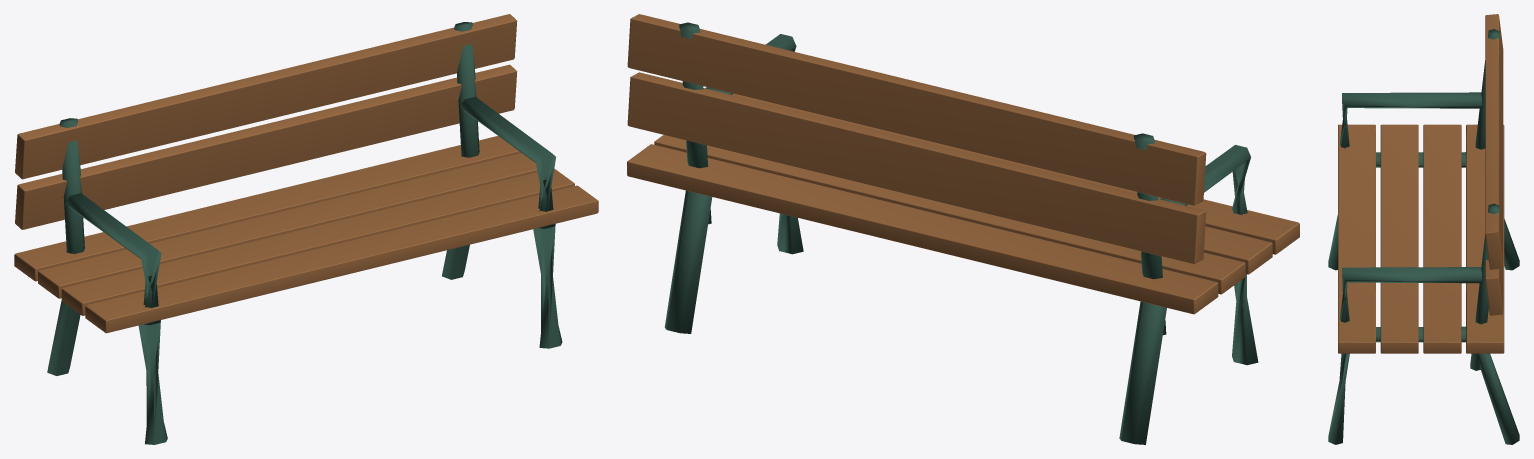
File: S052_park_bench_rebuilt.glb
3 renders of one model, left to right at view 1: azimuth 30°, elevation 25°; view 2: azimuth 150°, elevation 25°; view 3: azimuth 270°, elevation 25°, orthographic. The views are drawn at different scales.
Visible parts, largest first — view 1: Oiled_warm_oak.001, Deep_green_outdoor_paint; view 2: Oiled_warm_oak.001, Deep_green_outdoor_paint; view 3: Oiled_warm_oak.001, Deep_green_outdoor_paint.
Boxes of the visible parts, x1,y1,x2,y2 form: Oiled_warm_oak.001: (14, 14, 598, 333); Deep_green_outdoor_paint: (47, 22, 562, 444); Oiled_warm_oak.001: (627, 14, 1299, 314); Deep_green_outdoor_paint: (664, 22, 1258, 444); Oiled_warm_oak.001: (1338, 14, 1504, 353); Deep_green_outdoor_paint: (1328, 29, 1519, 444).
Bounding box in the file's own units: 1.8 × 0.9028 × 0.6677.
